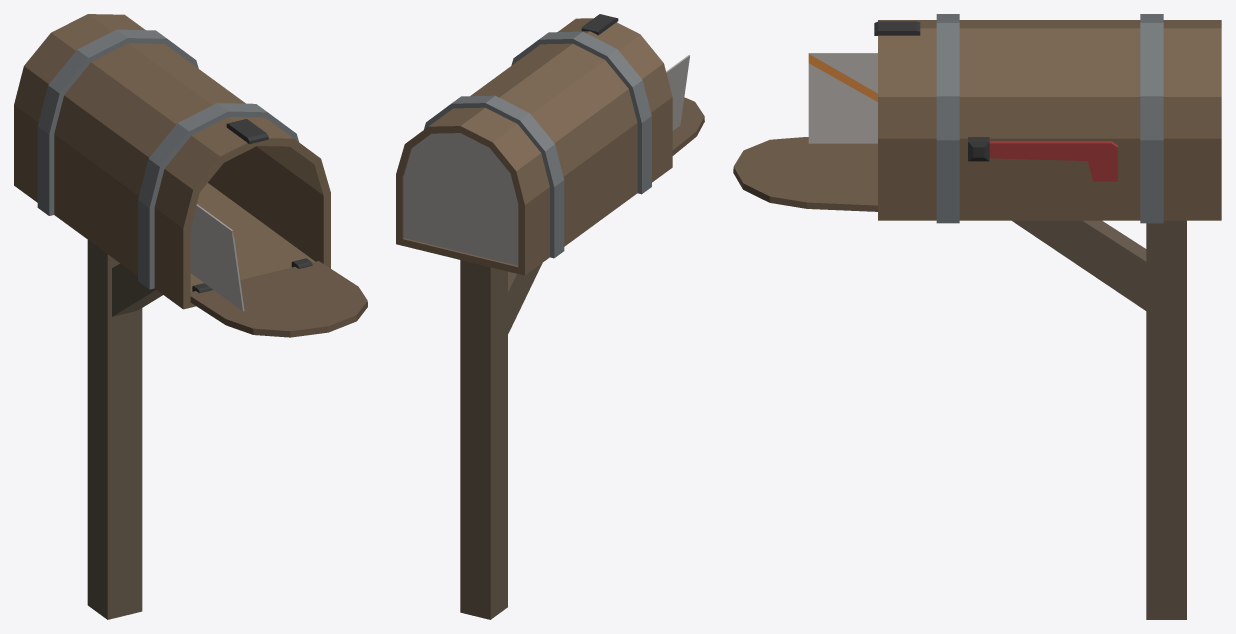
Rendered from SM_Props_Farm_PostBox_01.fbx.
The picture shows the model from 3 angles, left to right: view 1: azimuth 30°, elevation 25°; view 2: azimuth 150°, elevation 25°; view 3: azimuth 270°, elevation 25°; orthographic projection. The views are drawn at different scales.
Visible parts, largest first — view 1: SM_Props_Farm_PostBox_01; view 2: SM_Props_Farm_PostBox_01; view 3: SM_Props_Farm_PostBox_01.
Boxes of the visible parts, left/top/right/bottom form: SM_Props_Farm_PostBox_01: left=14, top=14, right=367, bottom=619; SM_Props_Farm_PostBox_01: left=396, top=14, right=704, bottom=619; SM_Props_Farm_PostBox_01: left=733, top=14, right=1221, bottom=619.
Bounding box in the file's own units: 32.96 × 112 × 83.92.
